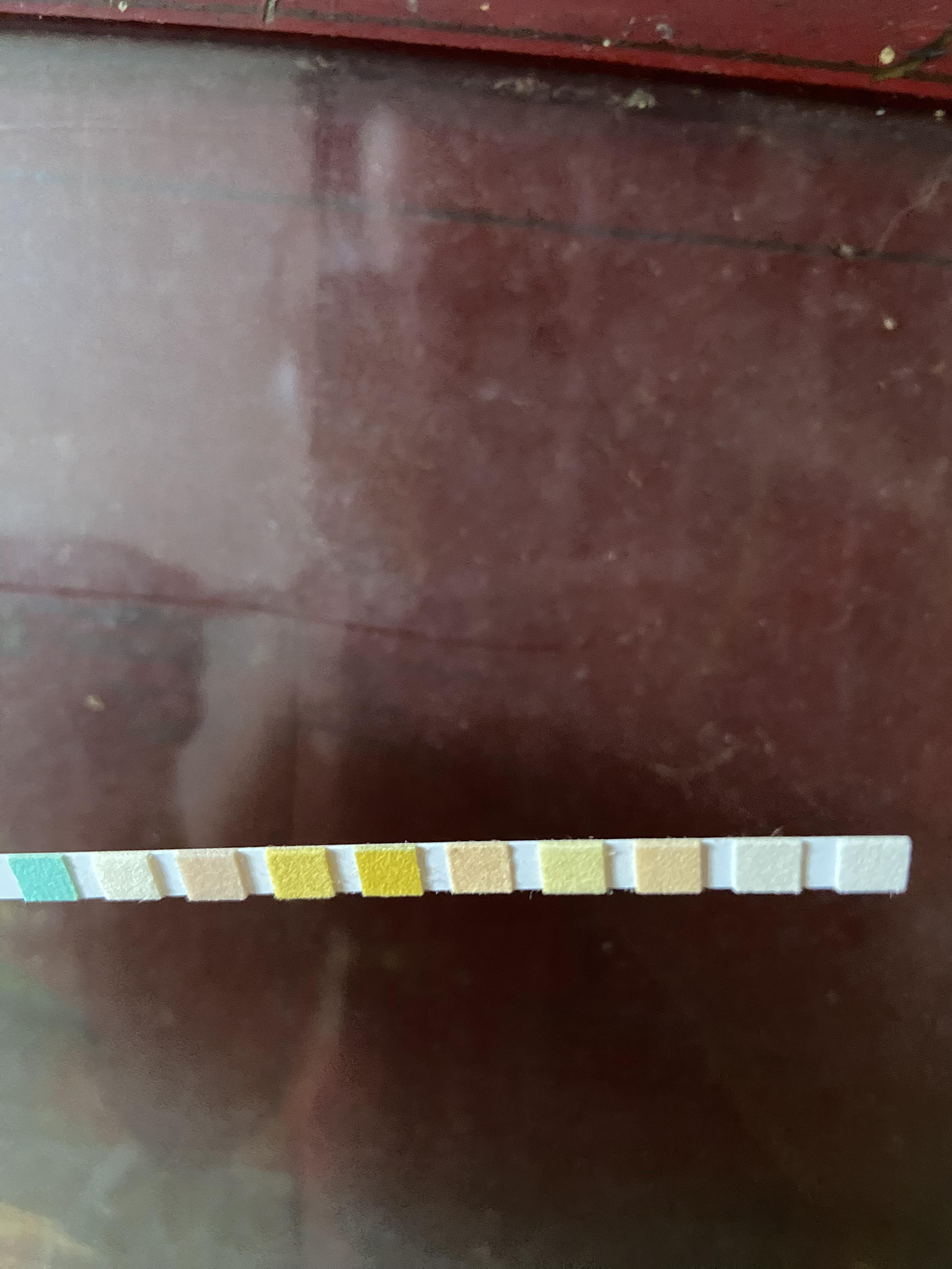Bilirubin: (106, 855, 146, 900)
Blood: (364, 852, 416, 896)
Glucose: (26, 858, 63, 900)
Ketone: (190, 855, 234, 900)
Leukocytes: (843, 843, 906, 891)
Nitrite: (739, 845, 798, 891)
Protein: (545, 847, 602, 892)
SpGravity: (278, 855, 326, 899)
Urobilinogen: (639, 845, 699, 893)
pH: (455, 848, 508, 890)
strip: (3, 837, 908, 897)
